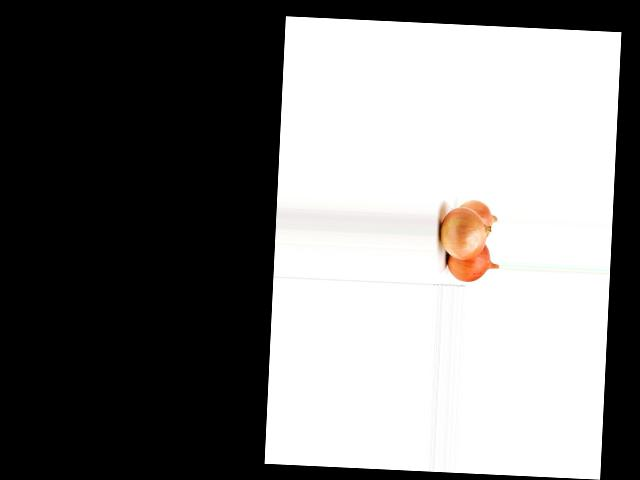onion: (443, 241, 496, 283)
